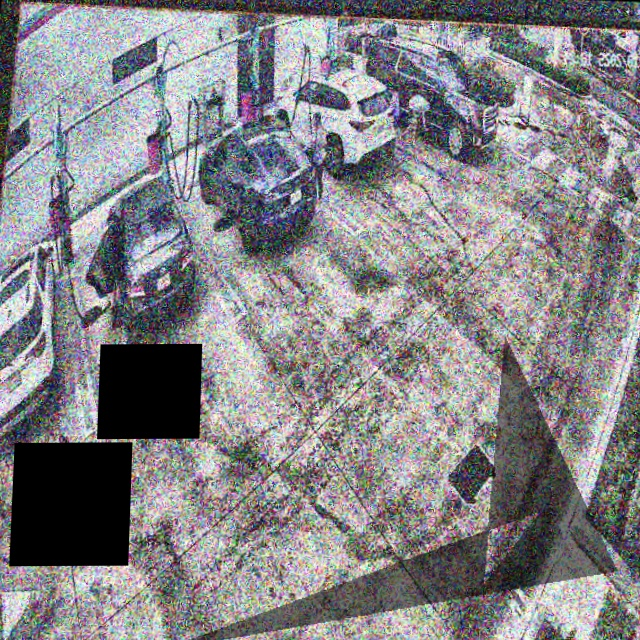Car: (83, 179, 201, 333), (193, 111, 318, 249), (266, 65, 398, 173)
